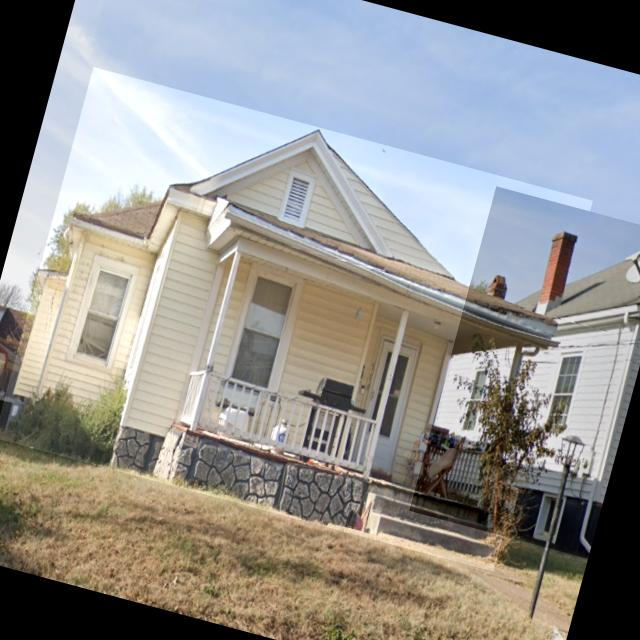House: (0, 67, 592, 571), (408, 186, 640, 558)
